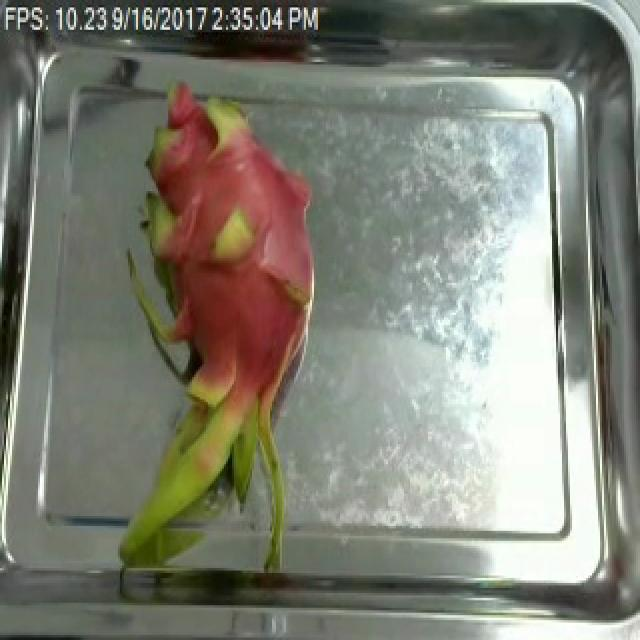fruit: (96, 107, 326, 550)
